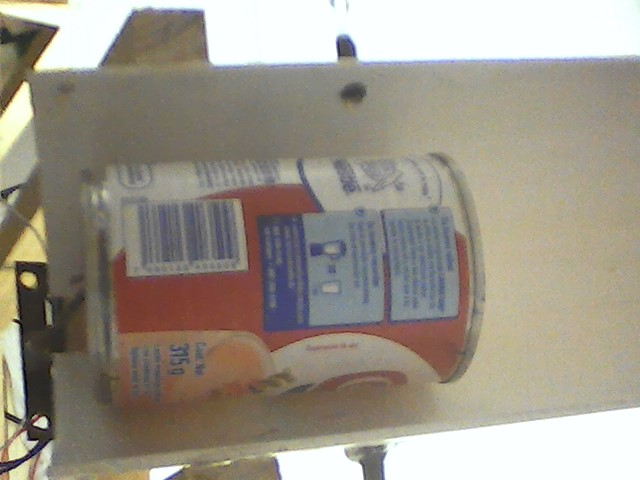lata: (75, 151, 494, 405)
